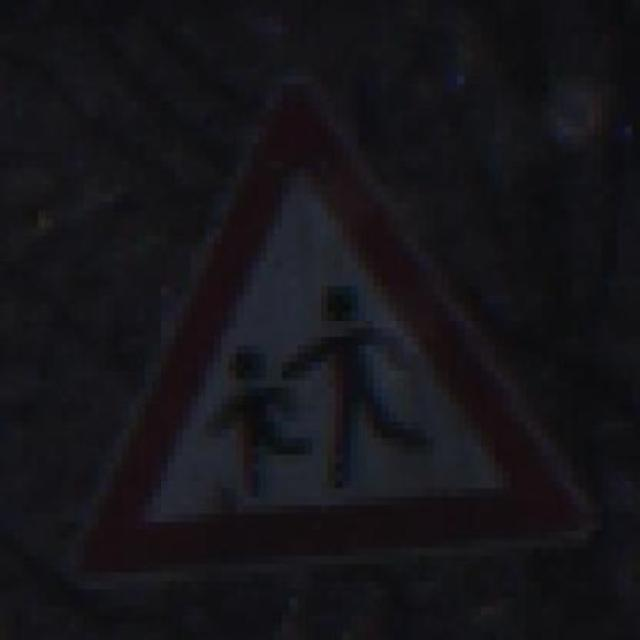Beware of children: (49, 76, 606, 582)
